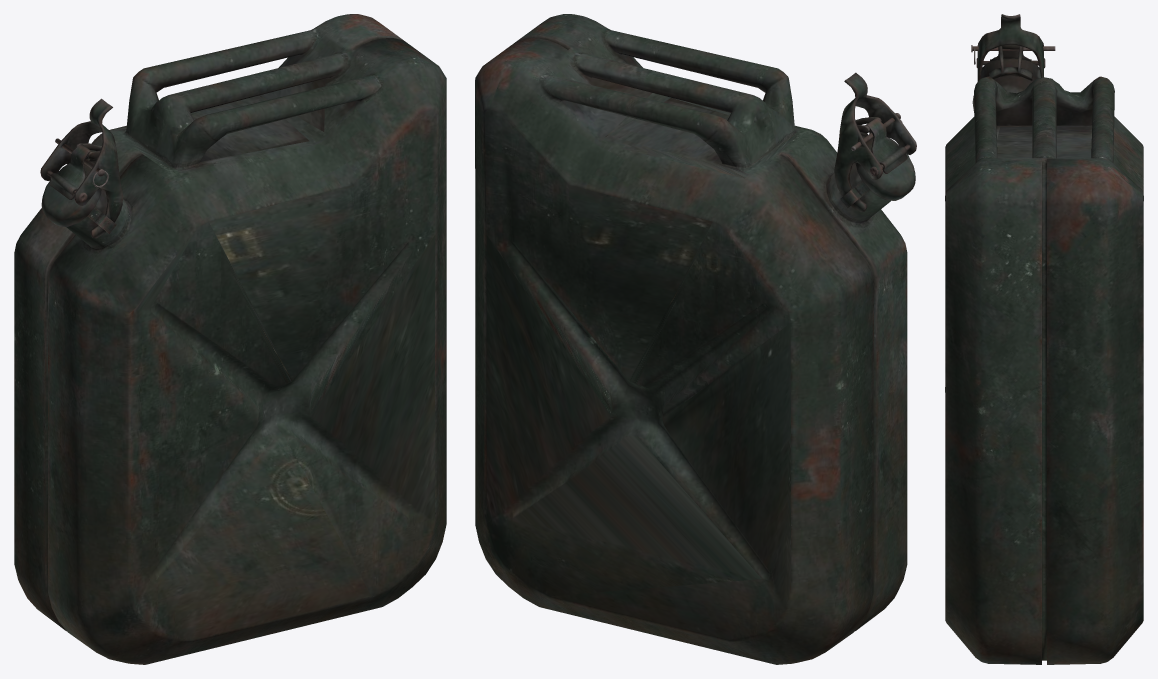
The model's file is metal_jerrycan_green.fbx.
3 renders of one model, left to right at view 1: azimuth 30°, elevation 25°; view 2: azimuth 150°, elevation 25°; view 3: azimuth 270°, elevation 25°, orthographic. The views are drawn at different scales.
Parts seen in each view (by area): view 1: metal_jerrycan_green_LOD0; view 2: metal_jerrycan_green_LOD0; view 3: metal_jerrycan_green_LOD0.
Part boxes in pixels (x1,y1,x2,y2): metal_jerrycan_green_LOD0: (14,14,446,664); metal_jerrycan_green_LOD0: (475,14,916,664); metal_jerrycan_green_LOD0: (945,14,1143,664).
Size of what is drawn, in the model's own units: 36.04 by 49.99 by 17.09.
1 material, 1 textured.
